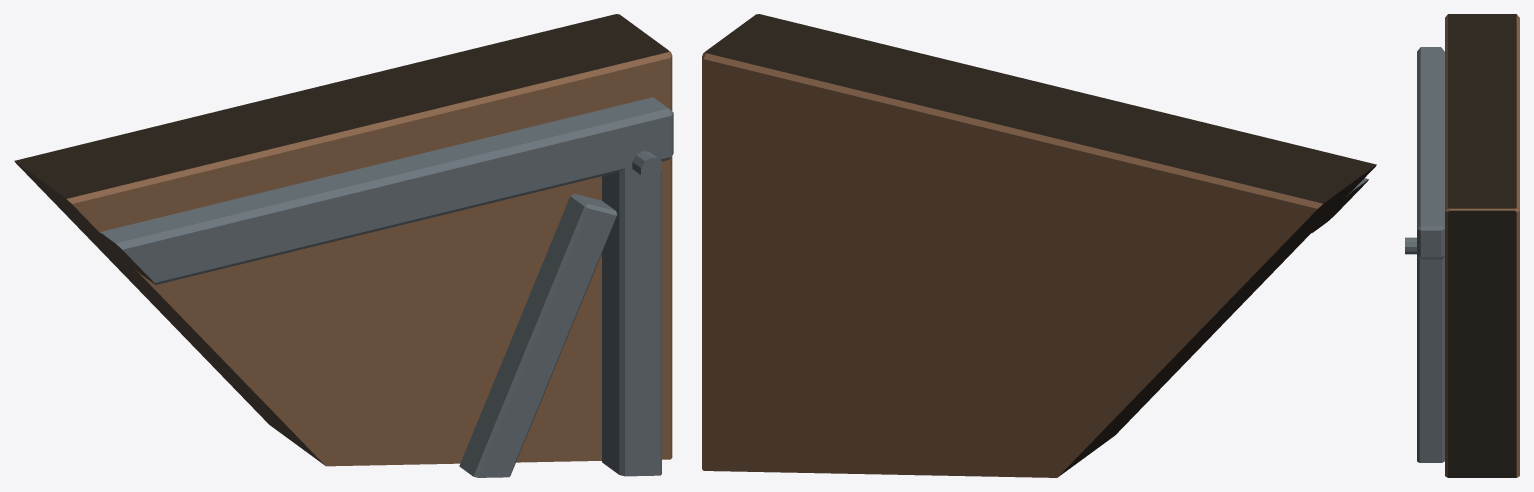
File: SM_DoorShard_02_32.fbx
3 renders of one model, left to right at view 1: azimuth 30°, elevation 25°; view 2: azimuth 150°, elevation 25°; view 3: azimuth 270°, elevation 25°, orthographic. The views are drawn at different scales.
Parts seen in each view (by area): view 1: SM_DoorShard_02_32; view 2: SM_DoorShard_02_32; view 3: SM_DoorShard_02_32.
Boxes of the visible parts, x1,y1,x2,y2 form: SM_DoorShard_02_32: [14, 14, 673, 477]; SM_DoorShard_02_32: [702, 14, 1376, 477]; SM_DoorShard_02_32: [1405, 14, 1519, 477].
Size of the model in its own units: 98.7 by 24.5 by 63.29.
